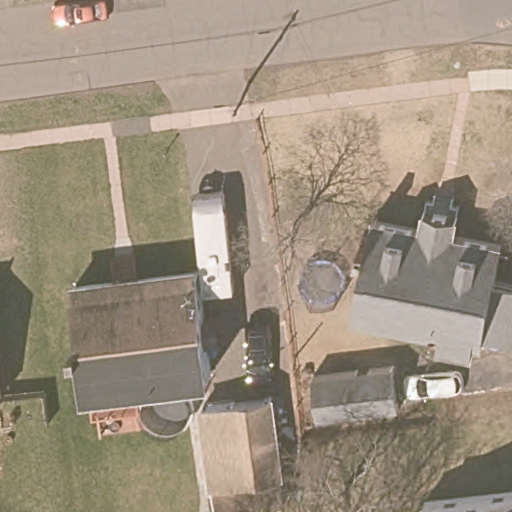DT: (232, 79, 252, 116)
